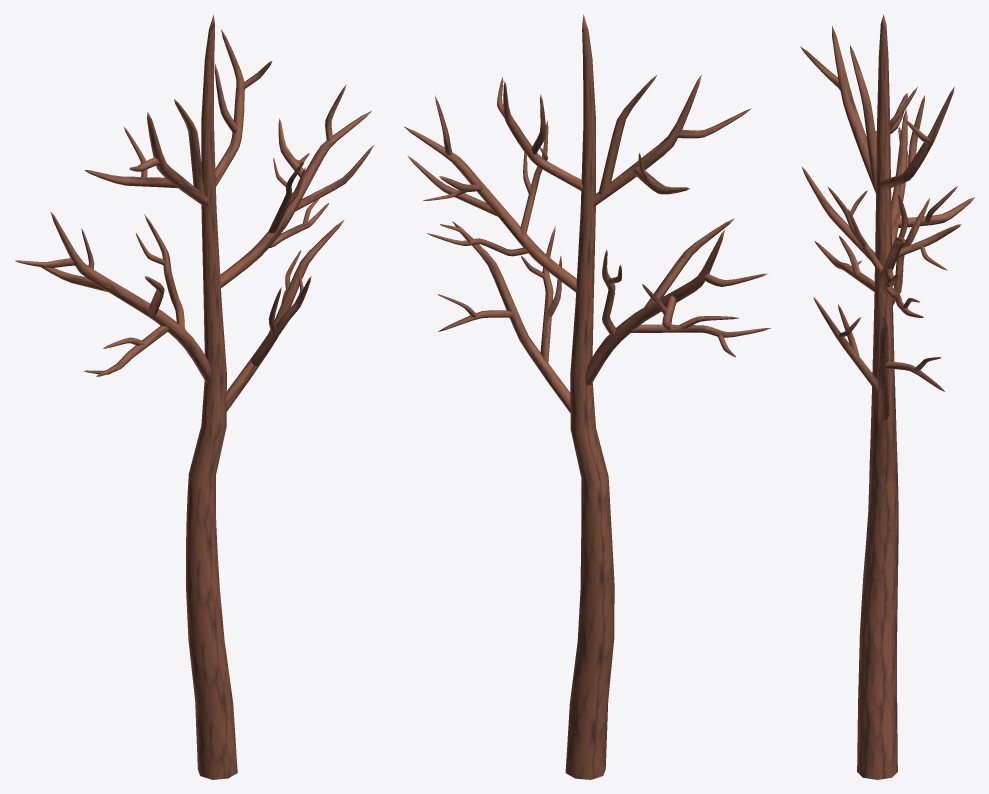
Rendered from DeadTree_1.glb.
The picture shows the model from 3 angles, left to right: view 1: azimuth 30°, elevation 25°; view 2: azimuth 150°, elevation 25°; view 3: azimuth 270°, elevation 25°; orthographic projection.
Visible parts, largest first — view 1: DeadTree_1; view 2: DeadTree_1; view 3: DeadTree_1.
Part boxes in pixels (bbox=[...]): DeadTree_1: bbox=[15, 15, 373, 779]; DeadTree_1: bbox=[404, 14, 770, 779]; DeadTree_1: bbox=[800, 14, 974, 779].
Bounding box in the file's own units: 3.09 × 6.2 × 1.3.
Materials: 1 (1 with a texture image).
